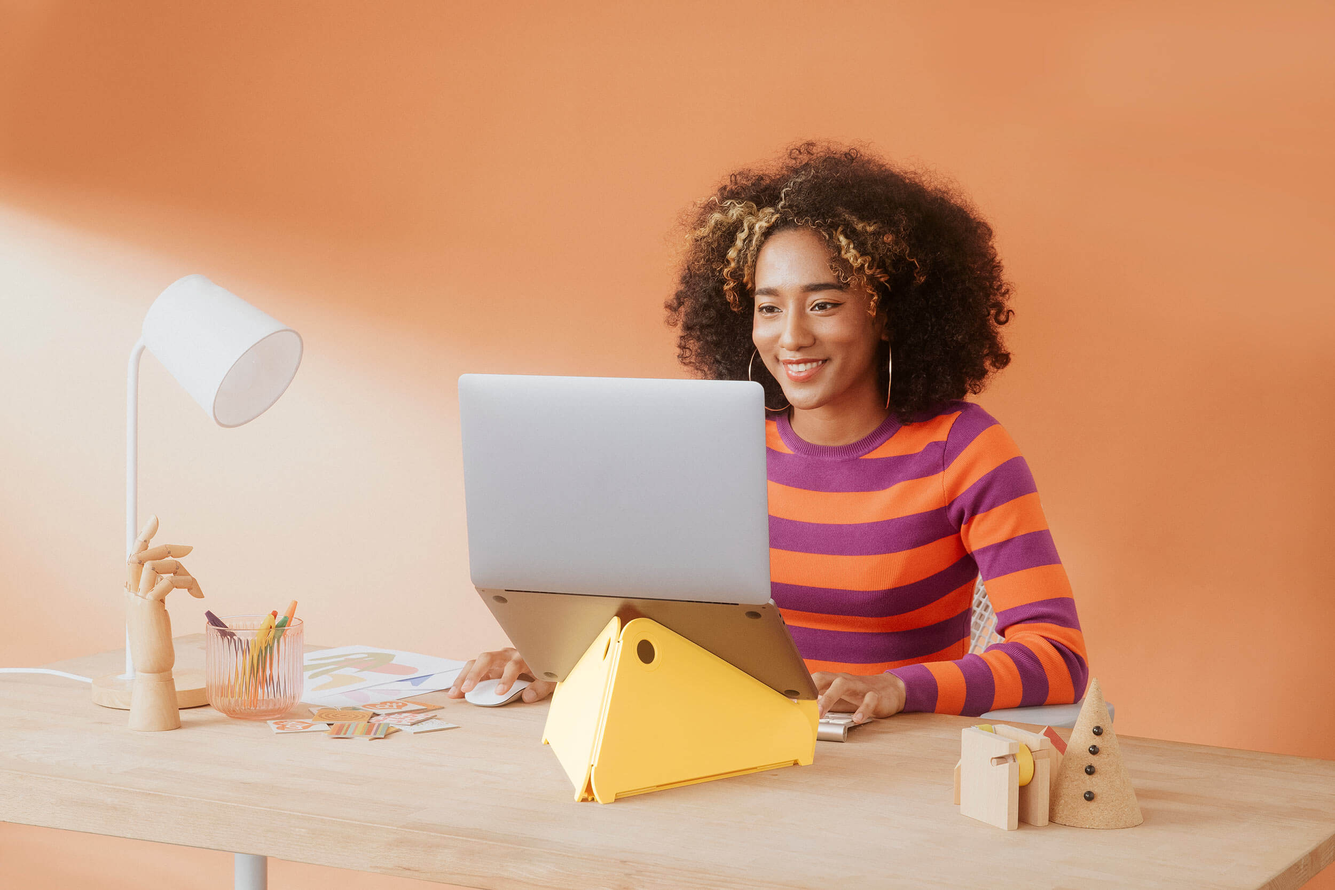not a gesture sign: (0, 0, 1334, 755)
